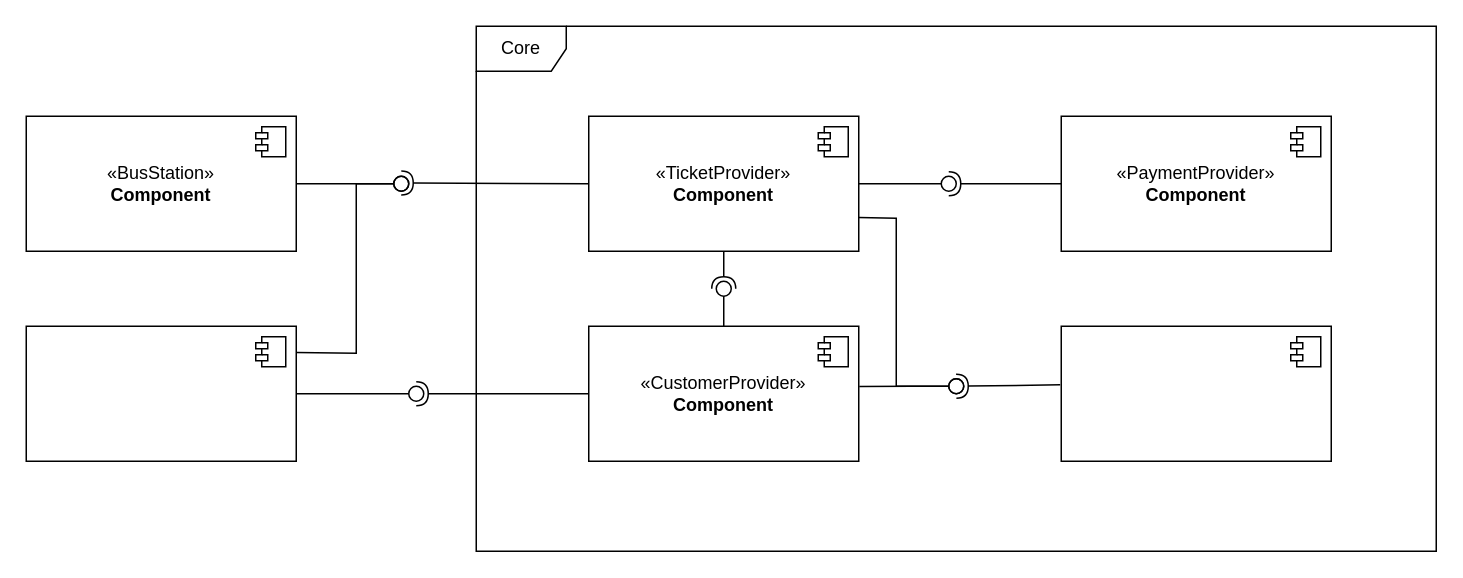
Image size: 1463x578. Some labels were removed from this diagram. Each missing label, with the box of its shape:
«DataBase » Component: (1060, 325, 1331, 461)
«MobileApp » Component: (25, 325, 296, 461)
